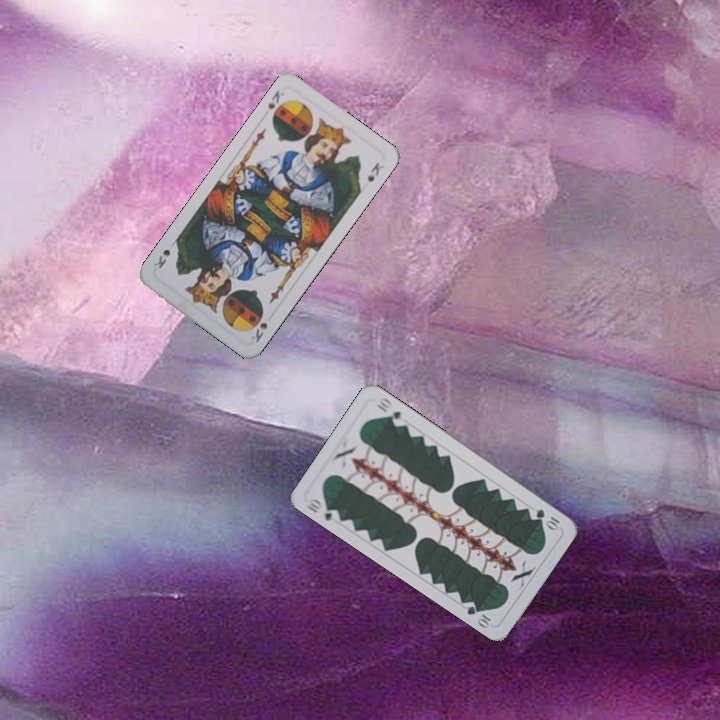G10: (303, 494, 342, 524), (532, 505, 563, 532)
SK: (247, 311, 270, 345), (264, 86, 287, 113)
